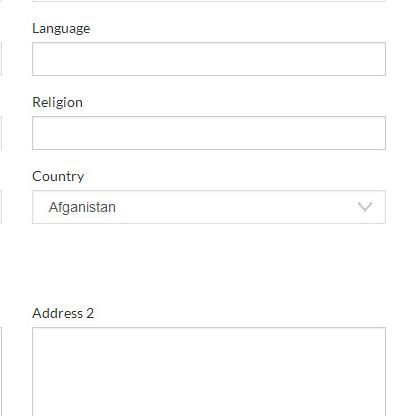field: (27, 39, 387, 78), (28, 114, 387, 153), (30, 189, 387, 226)
field_with_label: (24, 170, 388, 231), (26, 97, 390, 156), (23, 24, 389, 81)
